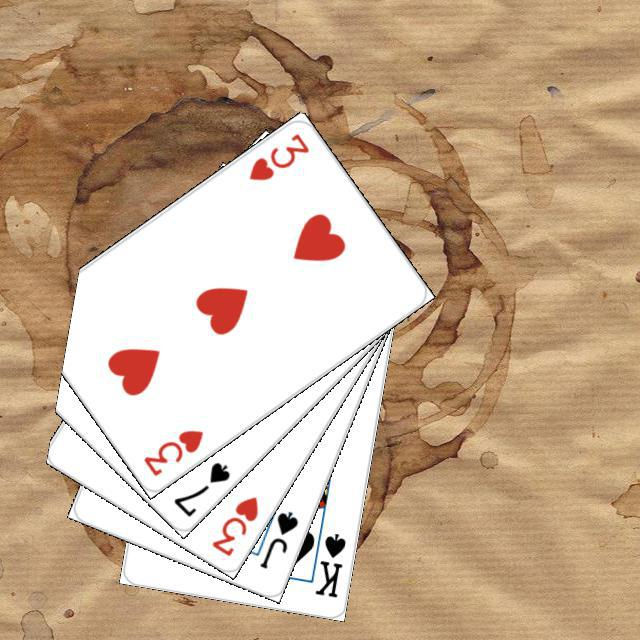3h: (243, 128, 311, 183), (206, 491, 261, 558), (138, 424, 205, 478)
7s: (169, 457, 232, 519)
Js: (255, 506, 300, 571)
Ks: (310, 528, 348, 600)
